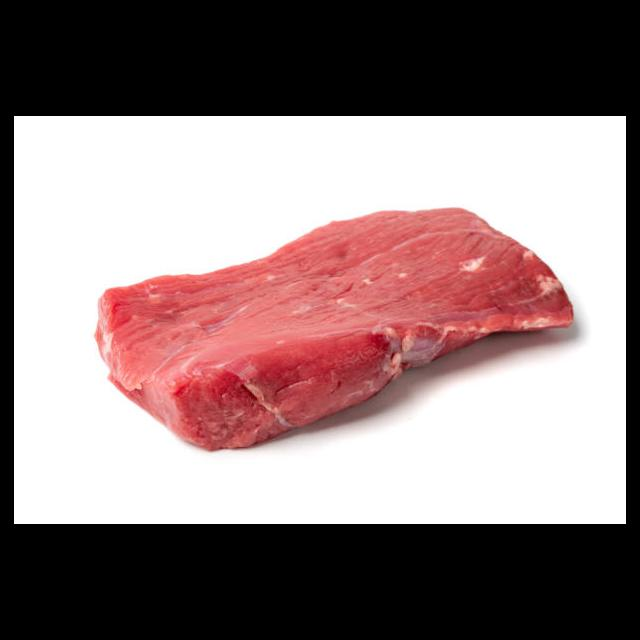beef: (94, 207, 576, 452)
